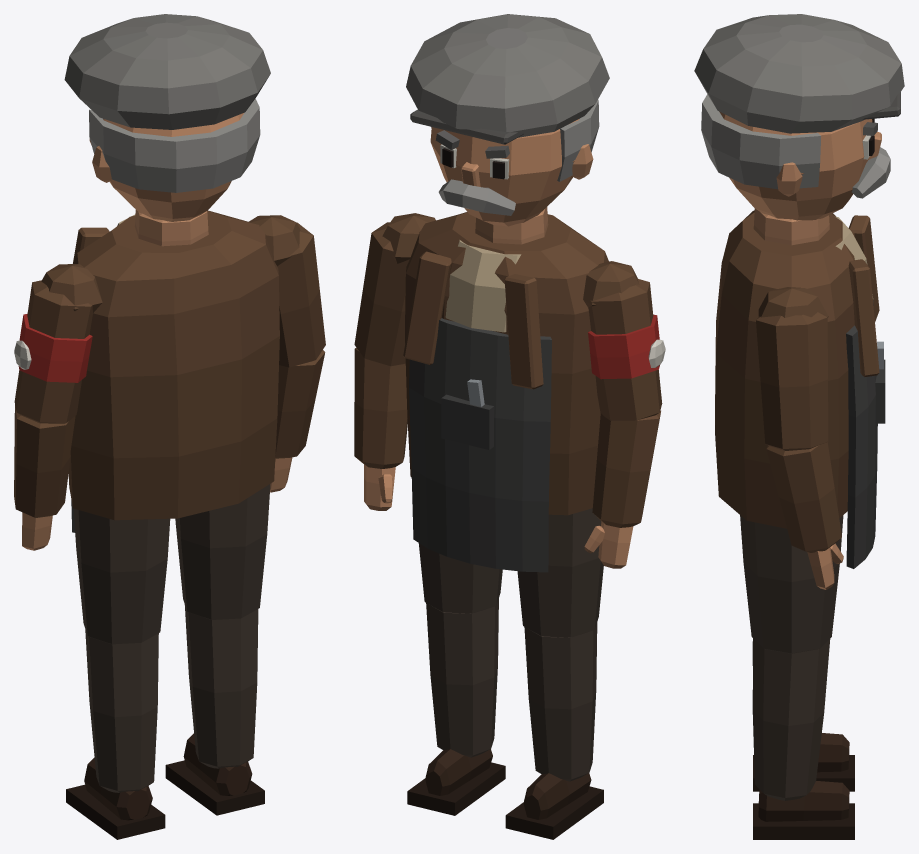
Rendered from chr_otto.glb.
3 views of the same model, side by side, from view 1: azimuth 30°, elevation 25°; view 2: azimuth 150°, elevation 25°; view 3: azimuth 270°, elevation 25° (orthographic).
Visible parts, largest first — view 1: chr_otto_stand; view 2: chr_otto_stand; view 3: chr_otto_stand.
Boxes of the visible parts, x1=… form: chr_otto_stand: x1=14, y1=14, x2=325, y2=839; chr_otto_stand: x1=354, y1=14, x2=665, y2=839; chr_otto_stand: x1=694, y1=14, x2=904, y2=839.
Bounding box in the file's own units: 0.7017 × 1.72 × 0.4247.
